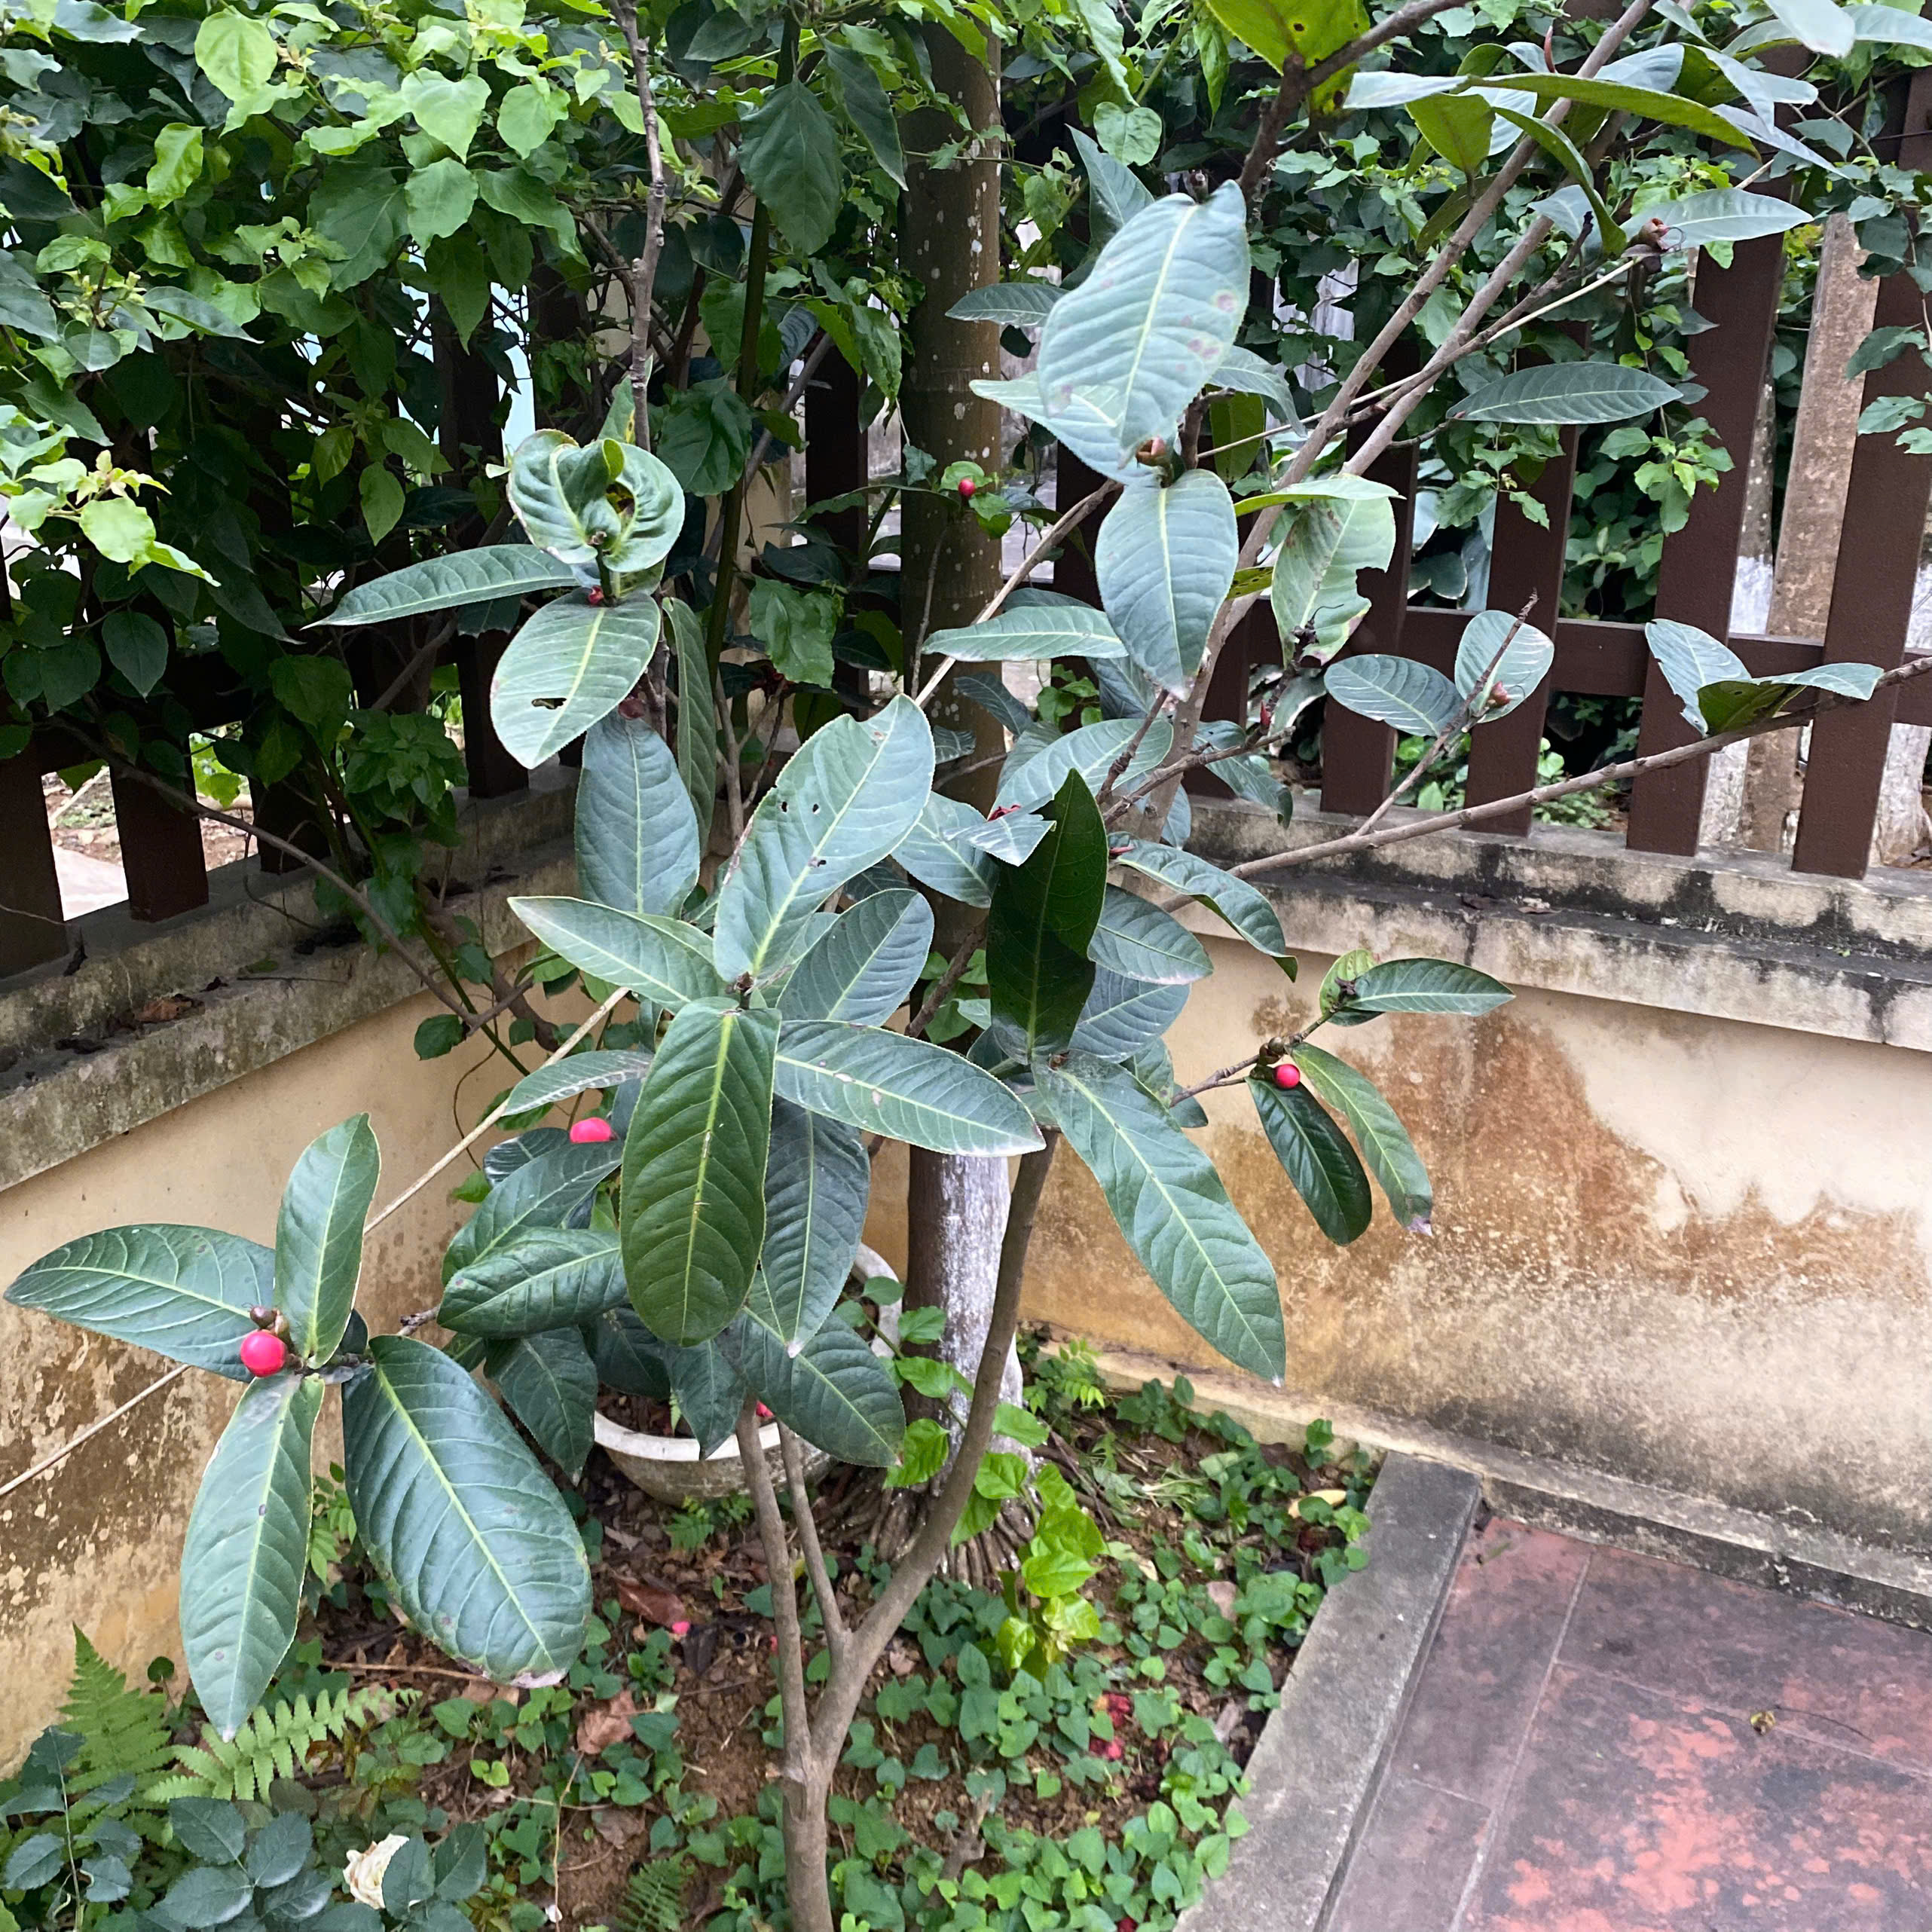hoa_hai_duong: (60, 156, 1888, 1828)
